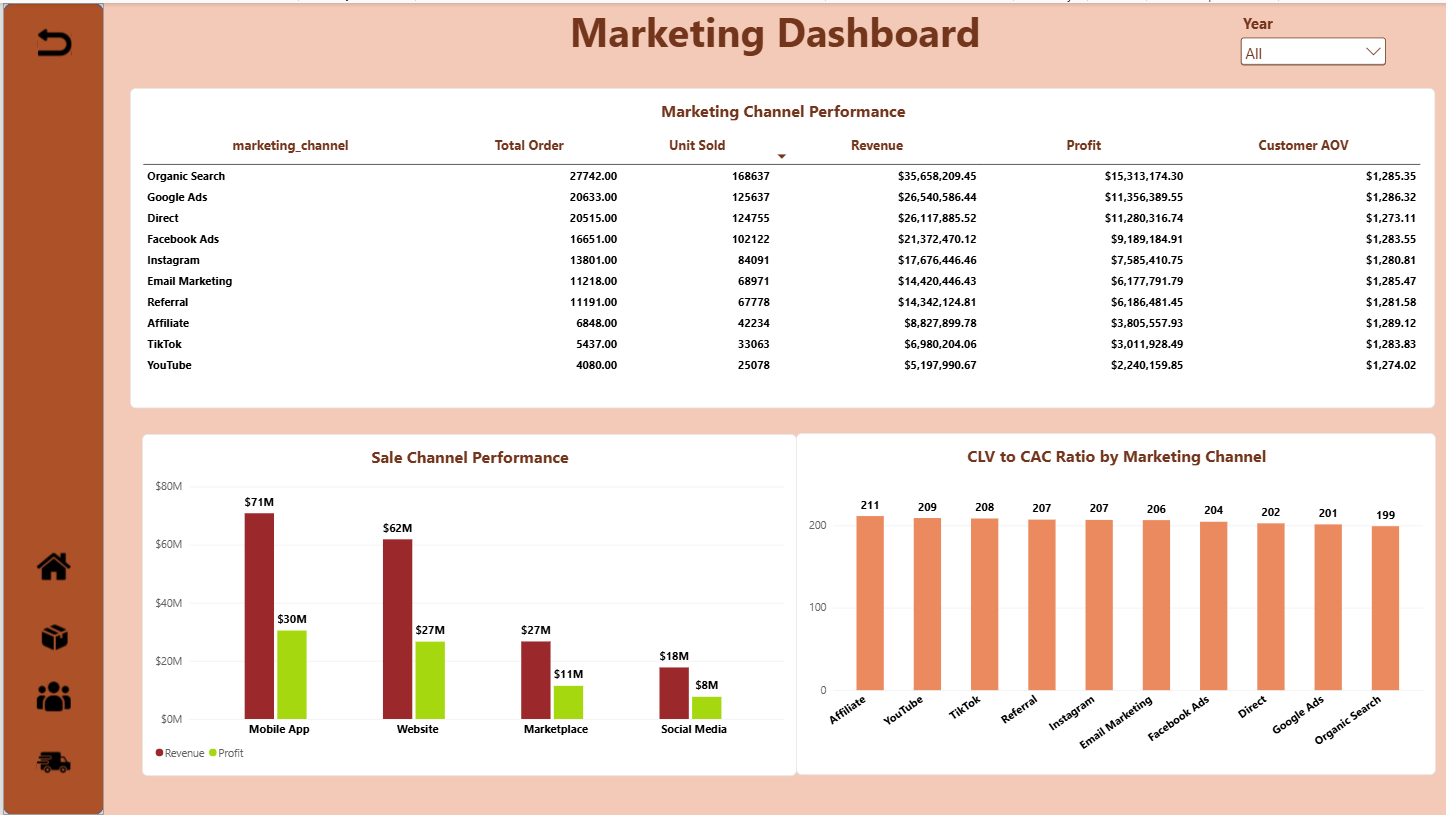

The dashboard page shown, as its layout file describes it:
{"tool":"powerbi","page":{"name":"Marketing Dashboard","canvas":[1920,1080],"ordinal":4},"visuals":[{"type":"shape","box":[0,0,134.3,1080],"z":0},{"type":"tableEx","title":"Marketing Channel Performance","fields":{"Values":["sales.marketing_channel","Measure Table.Total Order","Measure Table.Unit Sold","Sum(sales.net_sales)","Sum(sales.profit)","Measure Table.Customer AOV"]},"box":[169.3,113.4,1735.6,426.3],"z":1000},{"type":"textbox","box":[134.6,0,1785.4,192],"z":2000},{"type":"clusteredColumnChart","title":"Sale Channel Performance","fields":{"Category":["sales.sales_channel"],"Y":["Sum(sales.net_sales)","Sum(sales.profit)"]},"box":[184.4,573,870.8,455.1],"z":3000},{"type":"clusteredColumnChart","title":"CLV to CAC Ratio by Marketing Channel","fields":{"Category":["sales.marketing_channel"],"Y":["Measure Table.Marketing CLV to CAC Ratio"]},"box":[1054.3,572.4,851.4,455],"z":4000},{"type":"slicer","title":"Year","fields":{"Values":["Calendar.Year"]},"box":[1641.7,11.7,202.6,99.8],"z":5000},{"type":"actionButton","box":[12,877.8,111.7,88.3],"z":6000},{"type":"actionButton","box":[12,704.9,111.7,88.3],"z":7000},{"type":"actionButton","box":[13.3,799.4,111.7,88.3],"z":7001},{"type":"actionButton","box":[12,965.6,111.7,88.3],"z":7002},{"type":"actionButton","box":[13.3,8,111.7,88.3],"z":7003}]}

Visuals, with their boxes on the page's 1920x1080 design canvas (x1, y1, x2, y2). These are canvas units, not pixel positions in the 1446x815 screenshot, which may show the page scaled, cropped or inside an application window:
shape: {"x1": 0, "y1": 0, "x2": 134, "y2": 1080}
"Marketing Channel Performance" tableEx: {"x1": 169, "y1": 113, "x2": 1905, "y2": 540}
textbox: {"x1": 135, "y1": 0, "x2": 1920, "y2": 192}
"Sale Channel Performance" clusteredColumnChart: {"x1": 184, "y1": 573, "x2": 1055, "y2": 1028}
"CLV to CAC Ratio by Marketing Channel" clusteredColumnChart: {"x1": 1054, "y1": 572, "x2": 1906, "y2": 1027}
"Year" slicer: {"x1": 1642, "y1": 12, "x2": 1844, "y2": 112}
actionButton: {"x1": 12, "y1": 878, "x2": 124, "y2": 966}
actionButton: {"x1": 12, "y1": 705, "x2": 124, "y2": 793}
actionButton: {"x1": 13, "y1": 799, "x2": 125, "y2": 888}
actionButton: {"x1": 12, "y1": 966, "x2": 124, "y2": 1054}
actionButton: {"x1": 13, "y1": 8, "x2": 125, "y2": 96}
